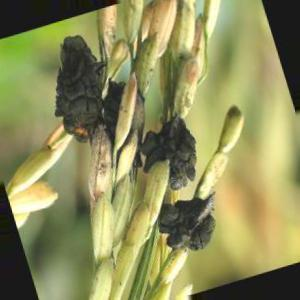False Smut: (53, 35, 105, 145), (148, 123, 192, 190), (158, 204, 211, 249)
